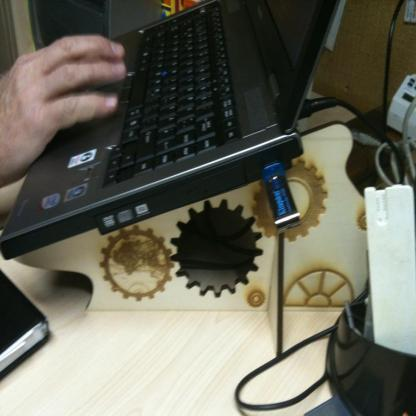board: (5, 0, 340, 295), (0, 269, 49, 380)
